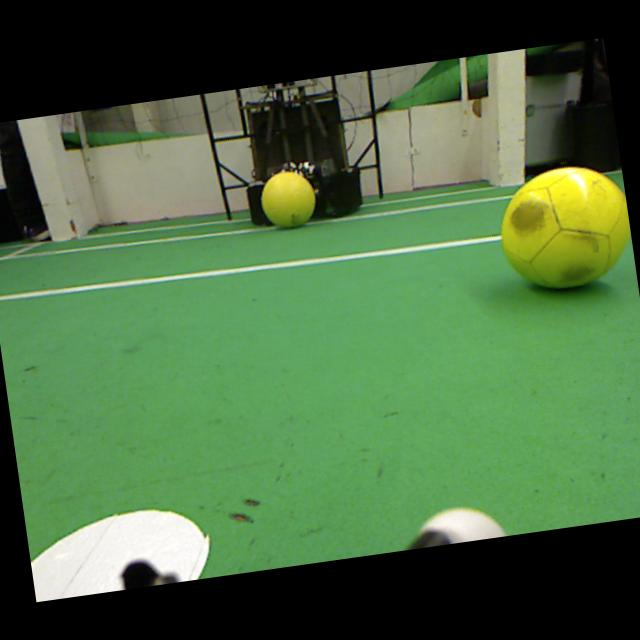ball: (501, 167, 631, 287), (261, 172, 315, 227)
goal: (16, 117, 76, 241), (498, 49, 527, 186)
robot: (245, 78, 363, 226)
